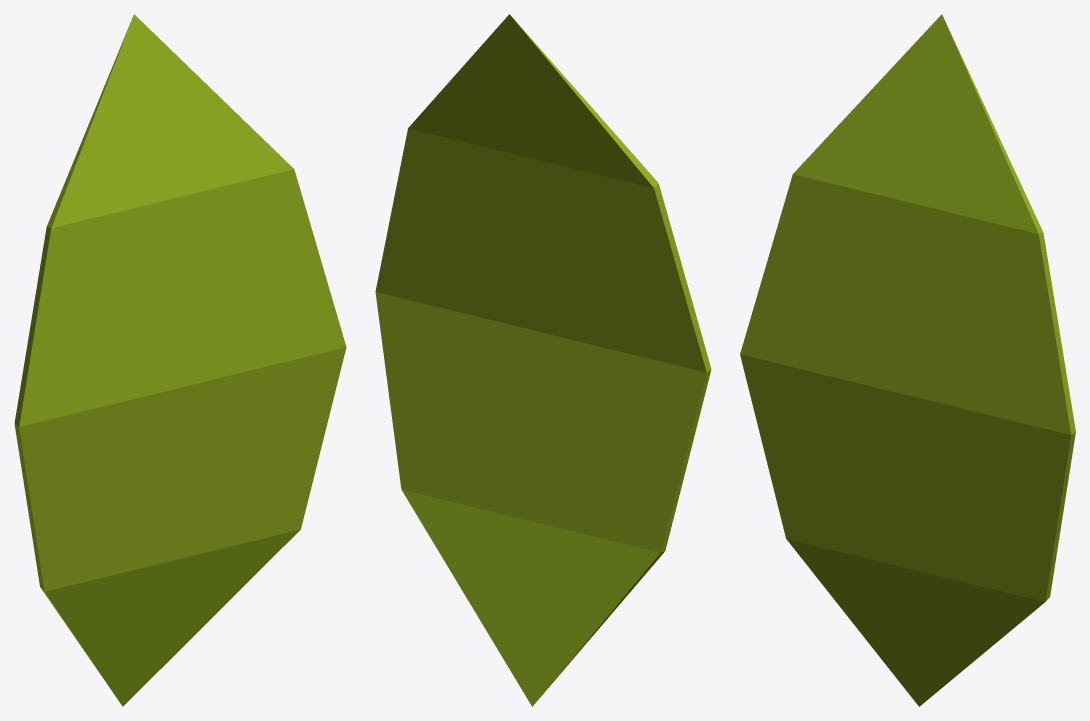
File: LeaveBent_a_03.fbx
The picture shows the model from 3 angles, left to right: view 1: azimuth 30°, elevation 25°; view 2: azimuth 150°, elevation 25°; view 3: azimuth 330°, elevation 25°; orthographic projection.
Parts seen in each view (by area): view 1: LeaveBent_a_03_LOD0; view 2: LeaveBent_a_03_LOD0; view 3: LeaveBent_a_03_LOD0.
Part boxes in pixels (<box>): LeaveBent_a_03_LOD0: <box>14,14,346,706</box>; LeaveBent_a_03_LOD0: <box>375,14,711,706</box>; LeaveBent_a_03_LOD0: <box>740,14,1075,706</box>.
Size of what is drawn, in the model's own units: 1.86 by 3.73 by 0.4179.
